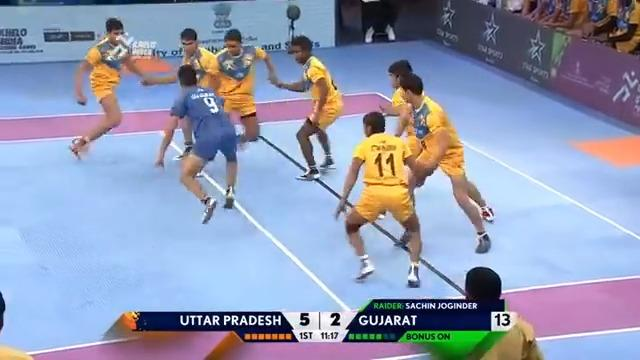Player: (392, 72, 495, 254), (333, 110, 424, 287), (68, 16, 151, 160), (140, 27, 220, 162), (270, 34, 343, 181), (206, 28, 278, 150)
Raider: (154, 63, 240, 224)
referee: (425, 265, 543, 359)
